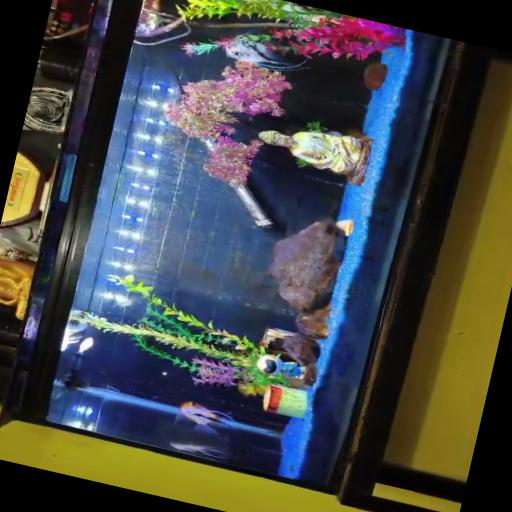Fish: (225, 38, 308, 70), (180, 401, 234, 434), (171, 441, 227, 458), (61, 320, 88, 350), (336, 219, 354, 235)
